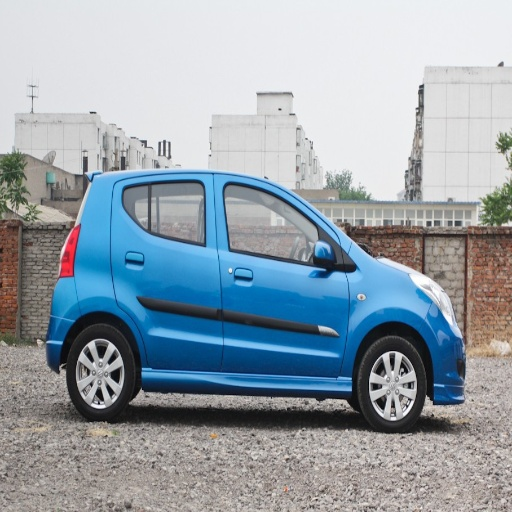back_right_door: (116, 174, 221, 371)
front_right_door: (215, 175, 349, 374)
